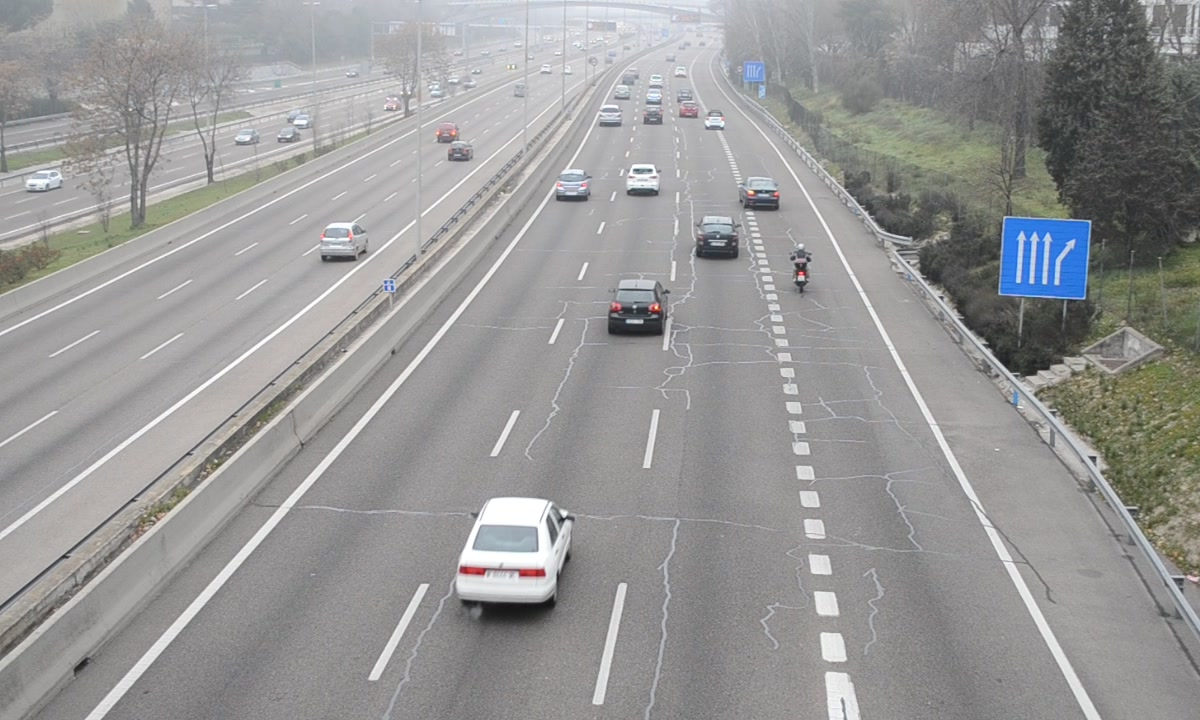car: (454, 498, 574, 602), (609, 279, 668, 335), (694, 216, 740, 255), (741, 176, 781, 212), (554, 168, 592, 203), (625, 163, 662, 195), (598, 101, 619, 126)
motorcycle: (790, 243, 813, 297)
